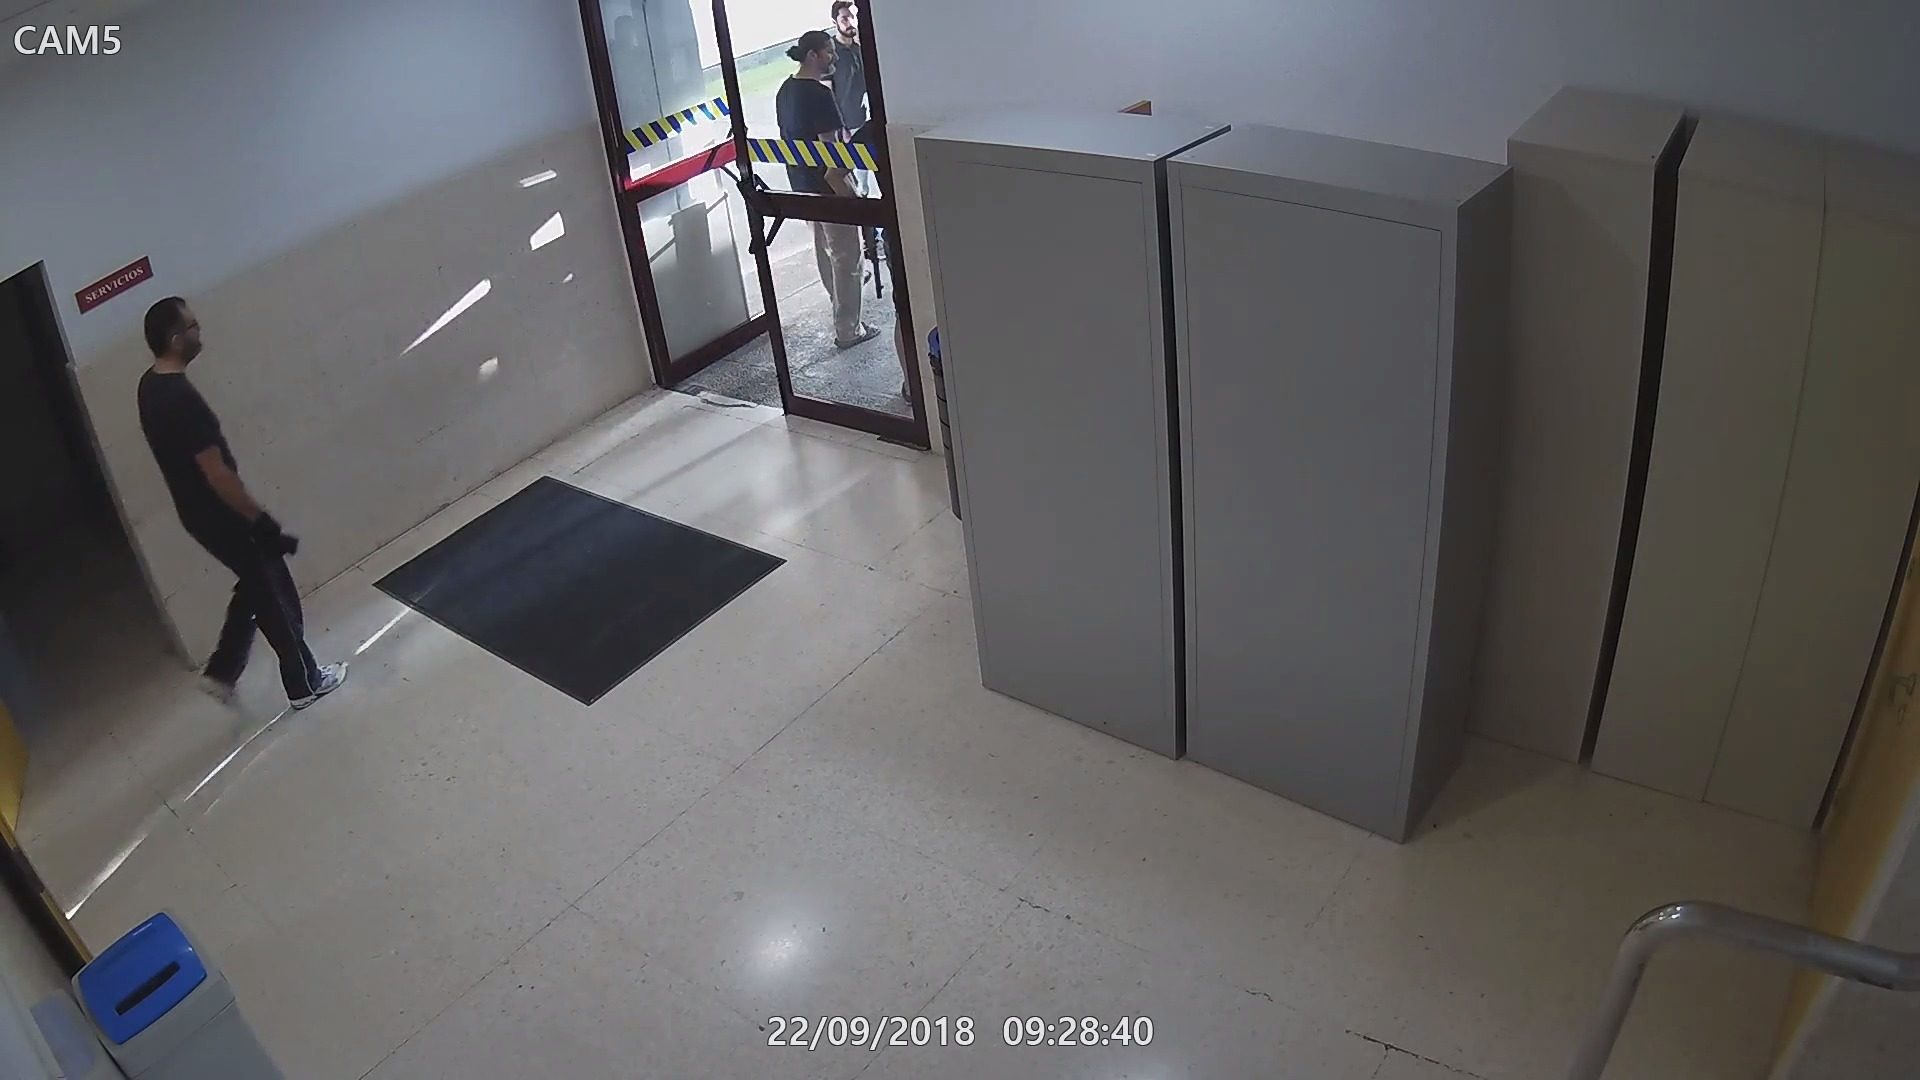Short_rifle: (858, 223, 885, 301)
